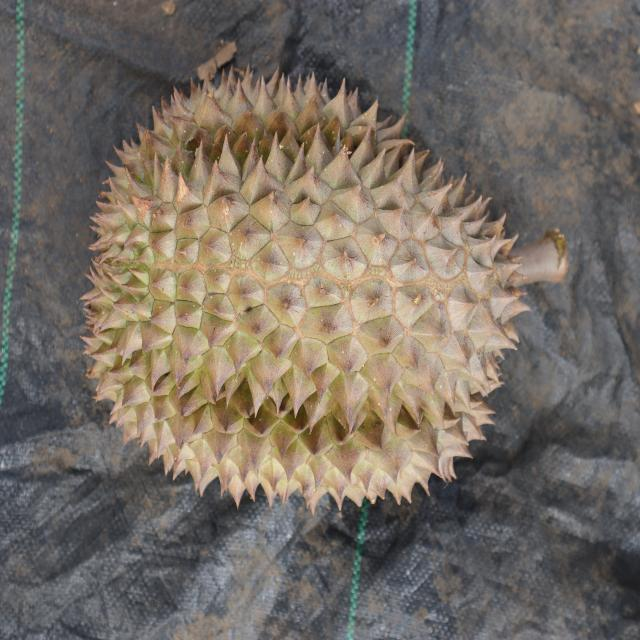mature: (83, 62, 531, 513)
